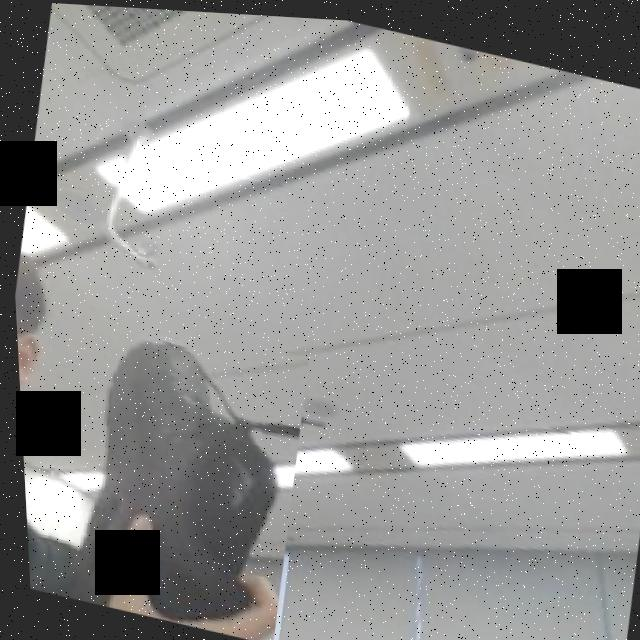shoe: (12, 286, 319, 640)
